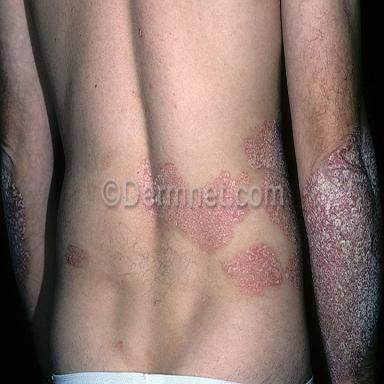Psoriasis: (301, 127, 381, 382), (143, 206, 249, 252), (1, 149, 29, 296), (223, 244, 302, 293), (243, 112, 289, 184), (137, 157, 186, 186), (264, 206, 302, 243), (213, 169, 250, 184), (64, 245, 89, 267)
